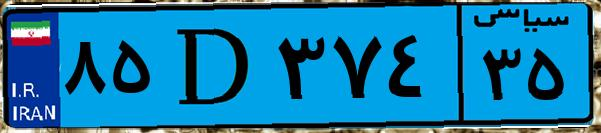3: (270, 28, 330, 110), (475, 38, 525, 113)
4: (385, 28, 445, 110)
5: (525, 38, 570, 115), (110, 28, 158, 98)
7: (330, 28, 385, 110)
8: (57, 26, 110, 100)
D: (158, 12, 270, 120)
